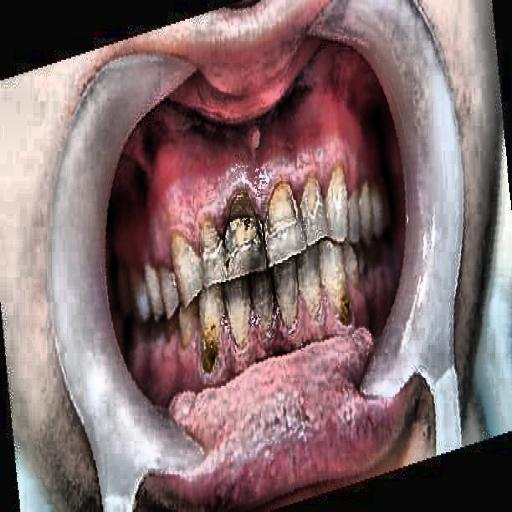Calculus: (179, 157, 349, 268)
